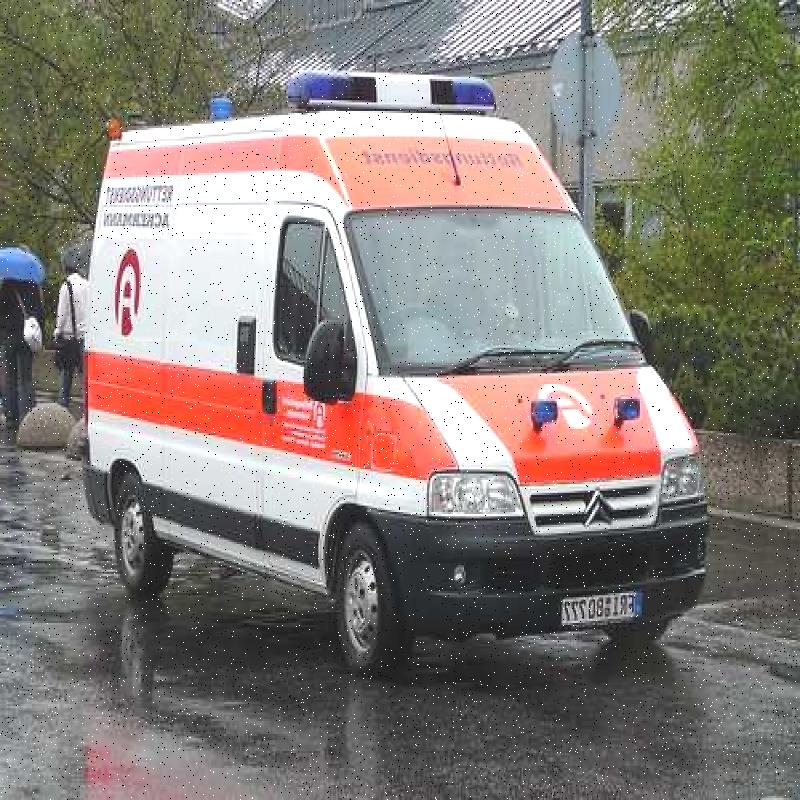AmbulanceSiren: (288, 46, 499, 130)
